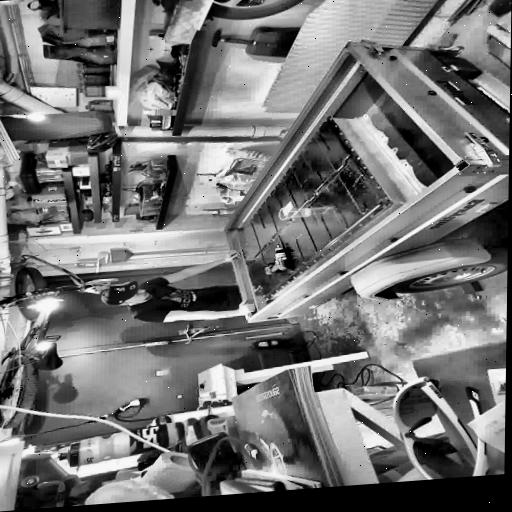b_casing: (240, 116, 393, 299)
